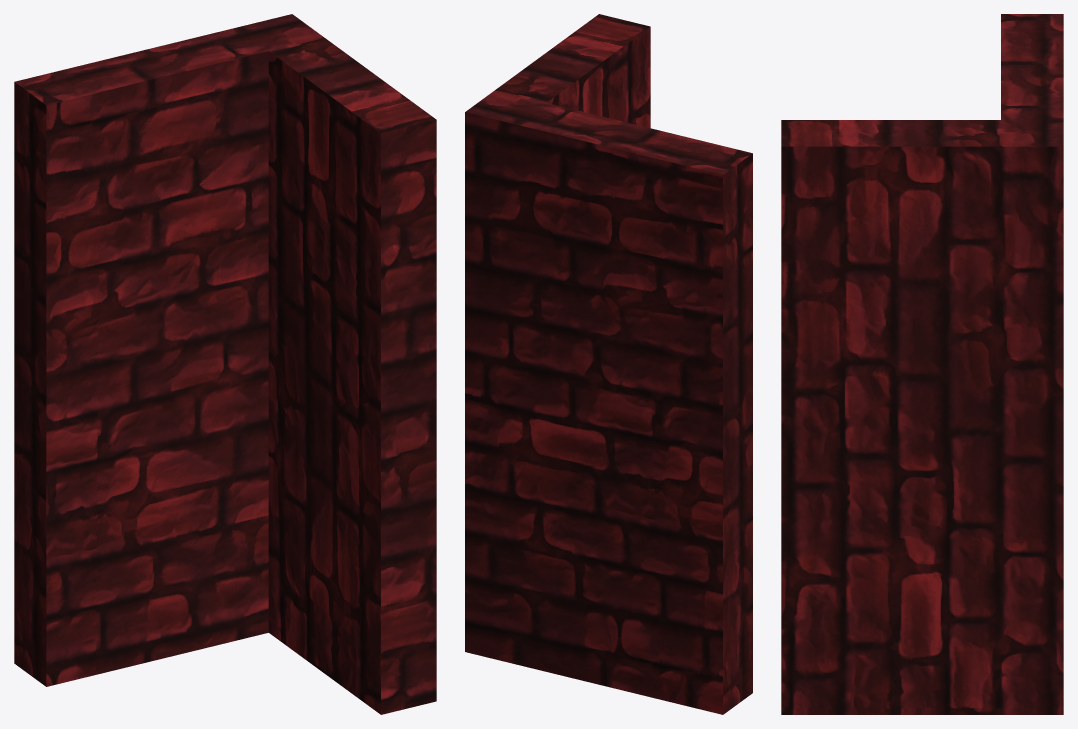
File: BLKFACE.fbx
The picture shows the model from 3 angles, left to right: view 1: azimuth 30°, elevation 25°; view 2: azimuth 150°, elevation 25°; view 3: azimuth 270°, elevation 25°; orthographic projection. The views are drawn at different scales.
Parts seen in each view (by area): view 1: Block_LOD3; view 2: Block_LOD3; view 3: Block_LOD3.
Boxes of the visible parts, box(x1,y1,x2,y2) form: Block_LOD3: box(14, 14, 436, 714); Block_LOD3: box(465, 14, 752, 714); Block_LOD3: box(781, 14, 1063, 714).
Size of the model in its own units: 100 by 200 by 90.
